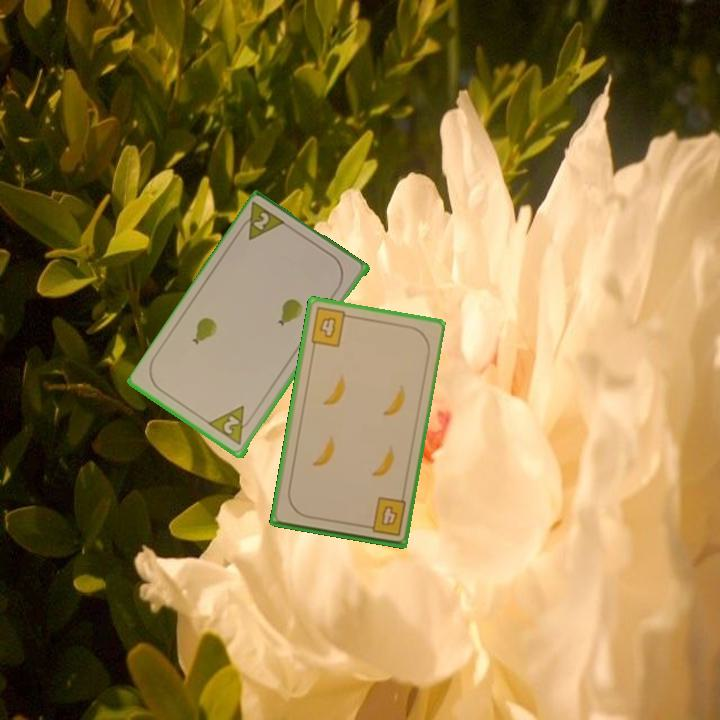2p: (234, 199, 290, 244), (206, 402, 256, 449)
4b: (307, 304, 355, 350), (360, 494, 409, 539)
